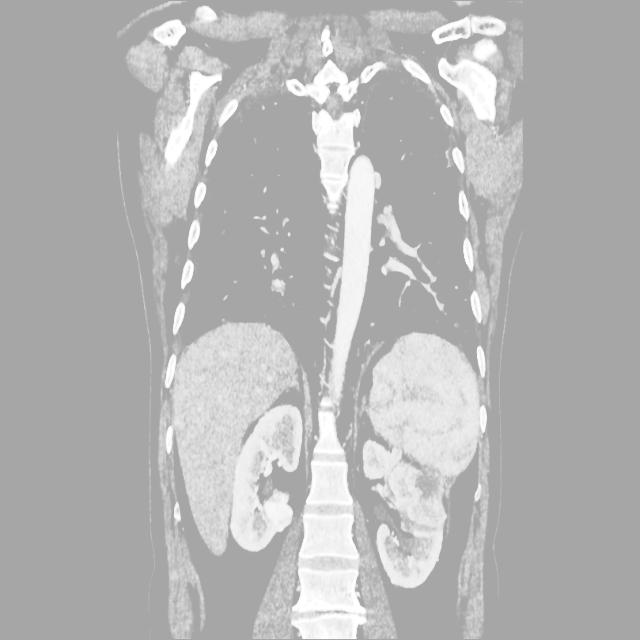TUMOR: (84, 199, 565, 549)
